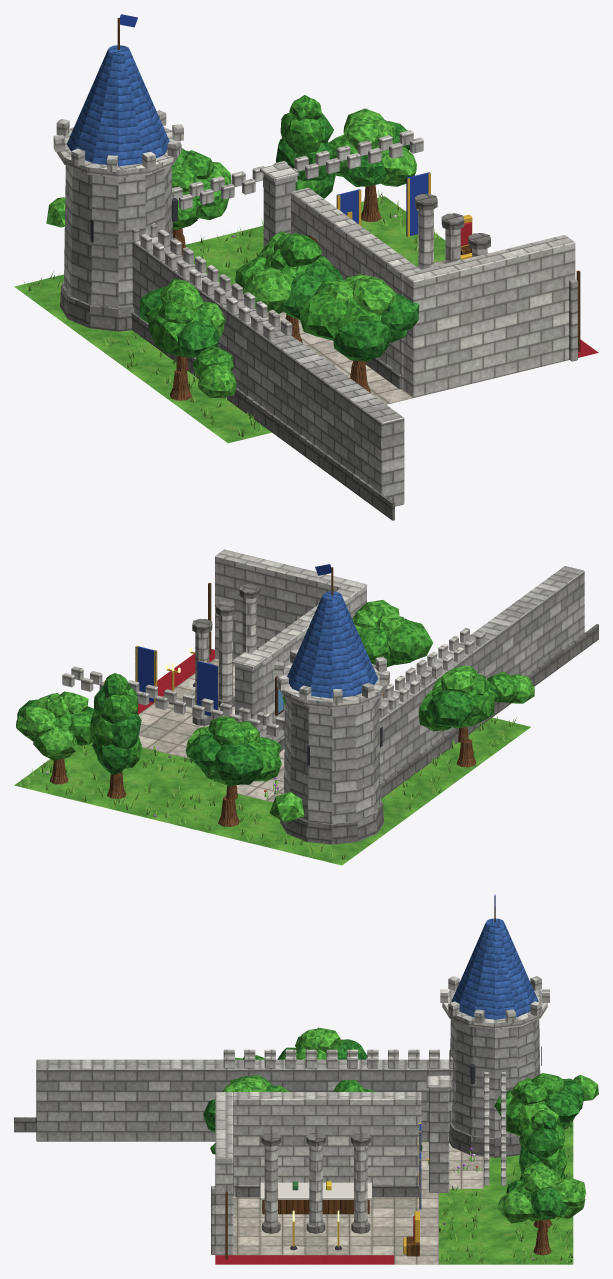
File: chunk_1_0.glb
3 views of the same model, one above another, from view 1: azimuth 30°, elevation 25°; view 2: azimuth 150°, elevation 25°; view 3: azimuth 270°, elevation 25° (orthographic). The views are drawn at different scales.
Visible parts, largest first — view 1: chunk_1_0; view 2: chunk_1_0; view 3: chunk_1_0.
Part boxes in pixels (left/top/right/bottom): chunk_1_0: left=14, top=14, right=598, bottom=520; chunk_1_0: left=14, top=549, right=598, bottom=865; chunk_1_0: left=14, top=894, right=598, bottom=1264.
Bounding box in the file's own units: 17.05 × 12.17 × 26.14.
Materials: 30 (16 with a texture image).
